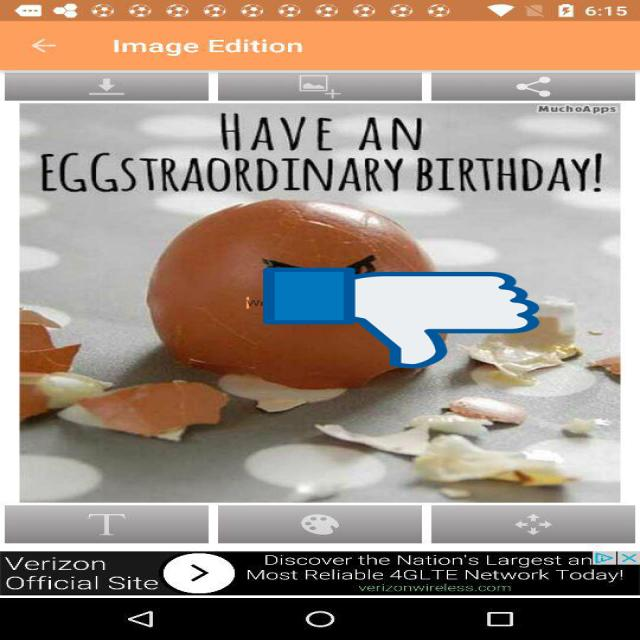obstruction: (263, 265, 539, 371)
